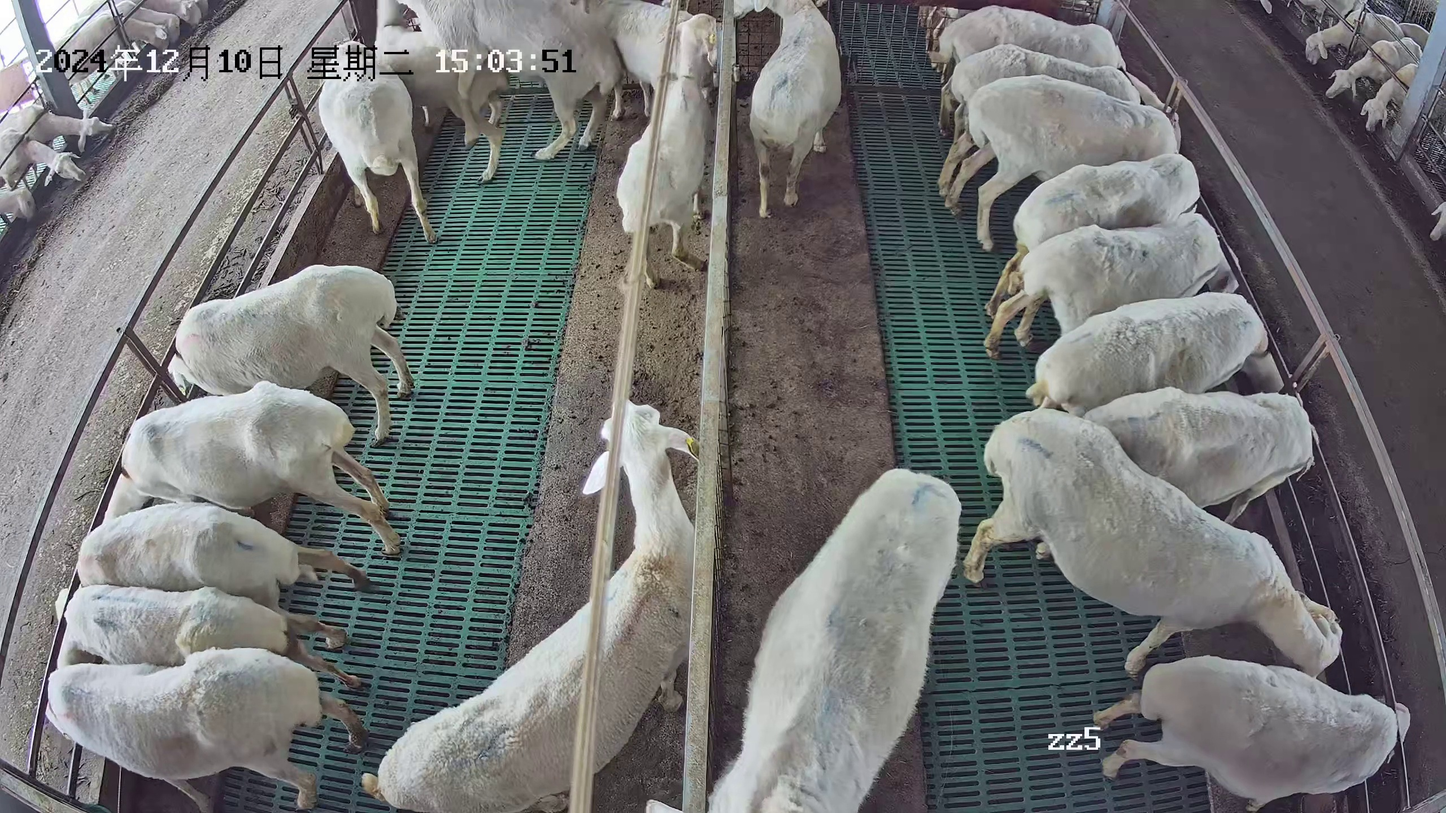Smounting: (373, 1, 620, 185)
mounted: (375, 1, 512, 182)
